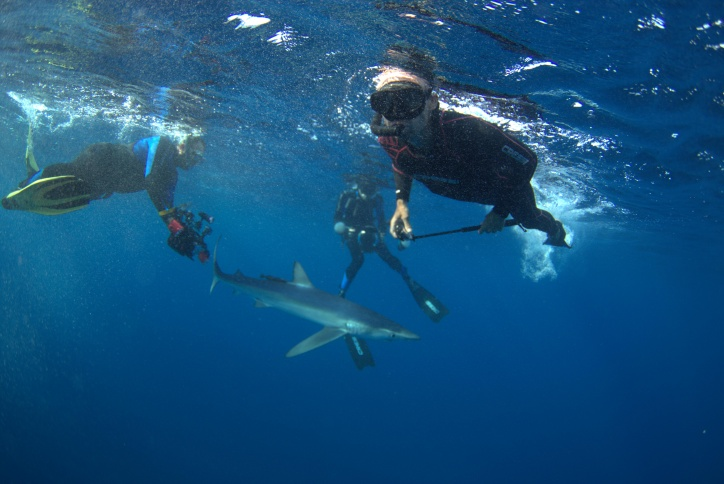Azul: (188, 243, 436, 377)
